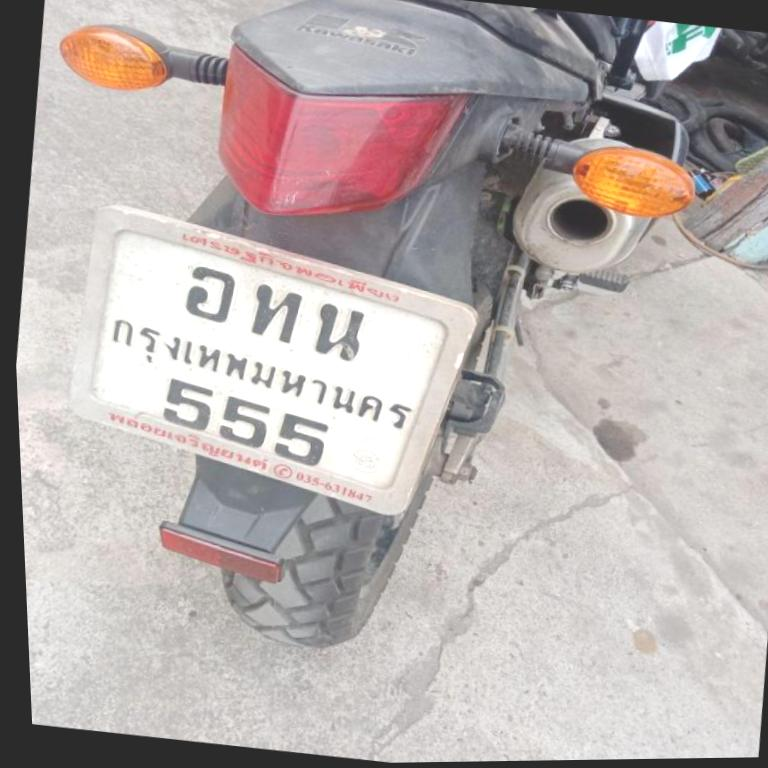license plate: (73, 205, 475, 513)
